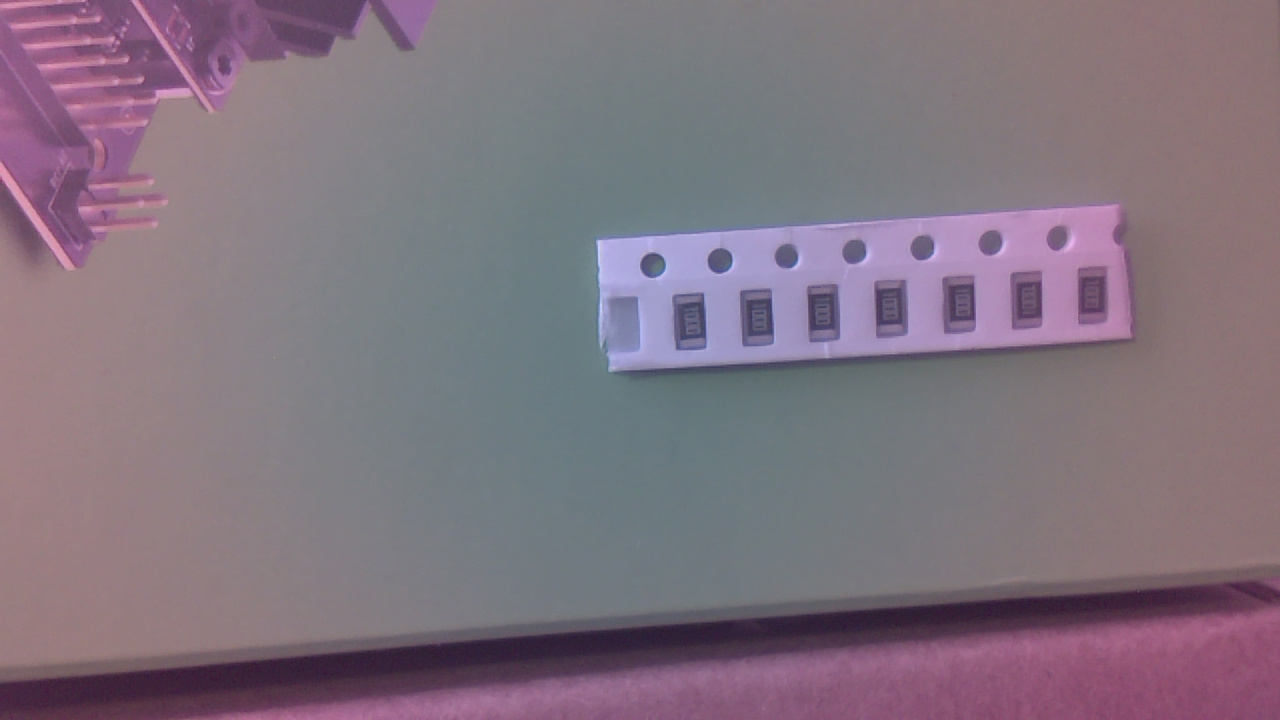Resistor: (947, 278, 982, 336), (678, 297, 713, 354), (1083, 270, 1115, 330), (879, 284, 914, 338), (1015, 278, 1050, 332), (747, 294, 779, 351), (811, 293, 843, 347)
